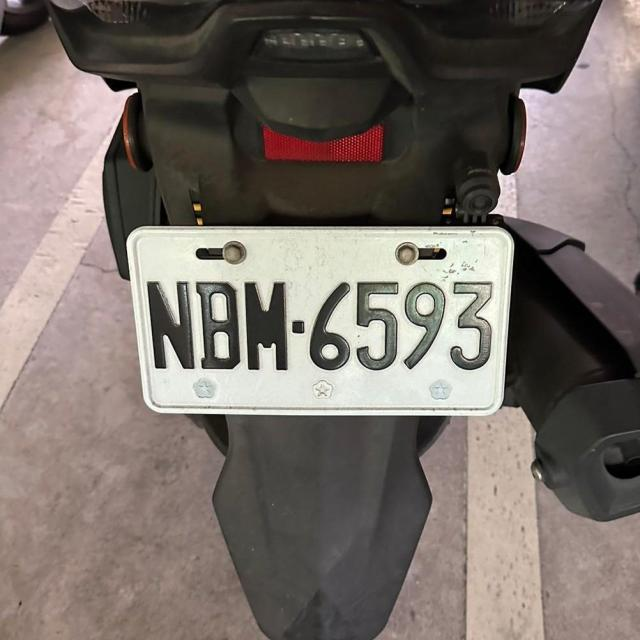W: (120, 217, 520, 419)
